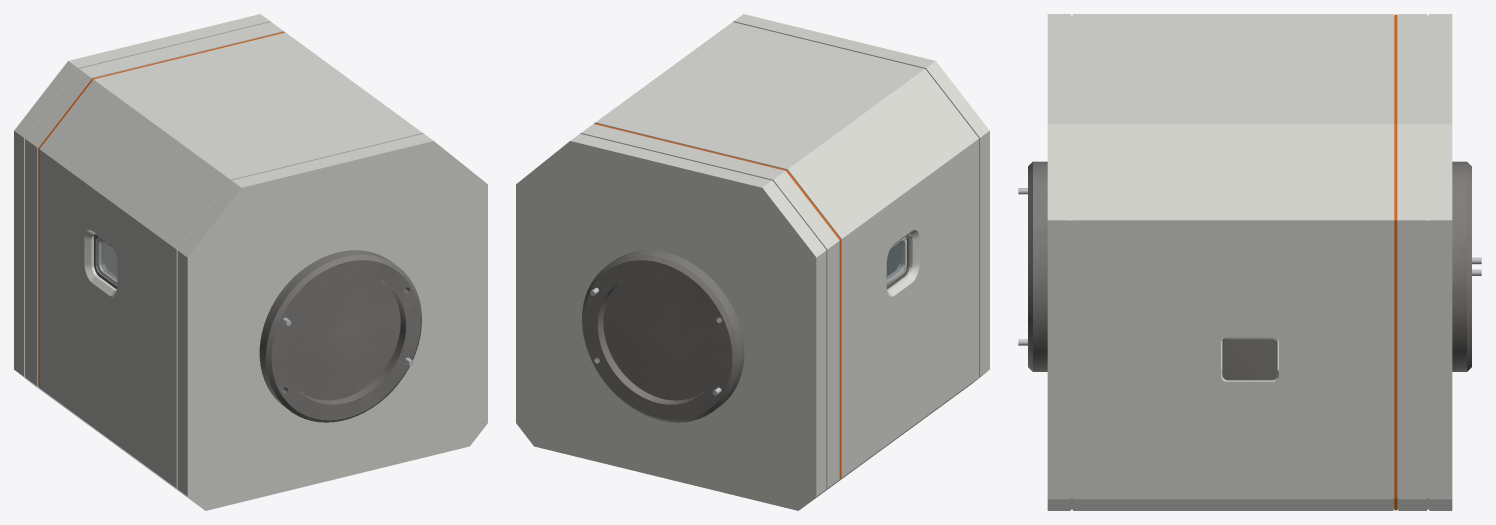
The model's file is ax_rover_10_mid_lab.glb.
3 renders of one model, left to right at view 1: azimuth 30°, elevation 25°; view 2: azimuth 150°, elevation 25°; view 3: azimuth 270°, elevation 25°, orthographic. The views are drawn at different scales.
Parts seen in each view (by area): view 1: hub_shell, hatch_door_1, hub_ring_front, orange_stripes, window_glass; view 2: hub_shell, hatch_door_2, hub_ring_rear, orange_stripes, window_glass; view 3: hub_shell, hub_ring_front, hub_ring_rear, lid_1, orange_stripes.
Part boxes in pixels (left/top/right/bottom): hub_shell: left=14, top=14, right=487, bottom=510; hatch_door_1: left=286, top=275, right=400, bottom=400; hub_ring_front: left=259, top=250, right=421, bottom=422; orange_stripes: left=38, top=32, right=284, bottom=386; window_glass: left=97, top=237, right=117, bottom=281; hub_shell: left=516, top=14, right=989, bottom=510; hatch_door_2: left=603, top=275, right=717, bottom=400; hub_ring_rear: left=582, top=250, right=744, bottom=422; orange_stripes: left=594, top=123, right=840, bottom=478; window_glass: left=886, top=238, right=905, bottom=284; hub_shell: left=1047, top=14, right=1452, bottom=510; hub_ring_front: left=1028, top=161, right=1047, bottom=371; hub_ring_rear: left=1452, top=161, right=1471, bottom=371; lid_1: left=1222, top=337, right=1277, bottom=380; orange_stripes: left=1394, top=14, right=1397, bottom=510.
Bounding box in the file's own units: 2.5 × 2.56 × 2.86.
5 materials, 2 textured.
